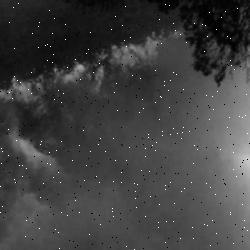fire: (1, 27, 183, 114)
